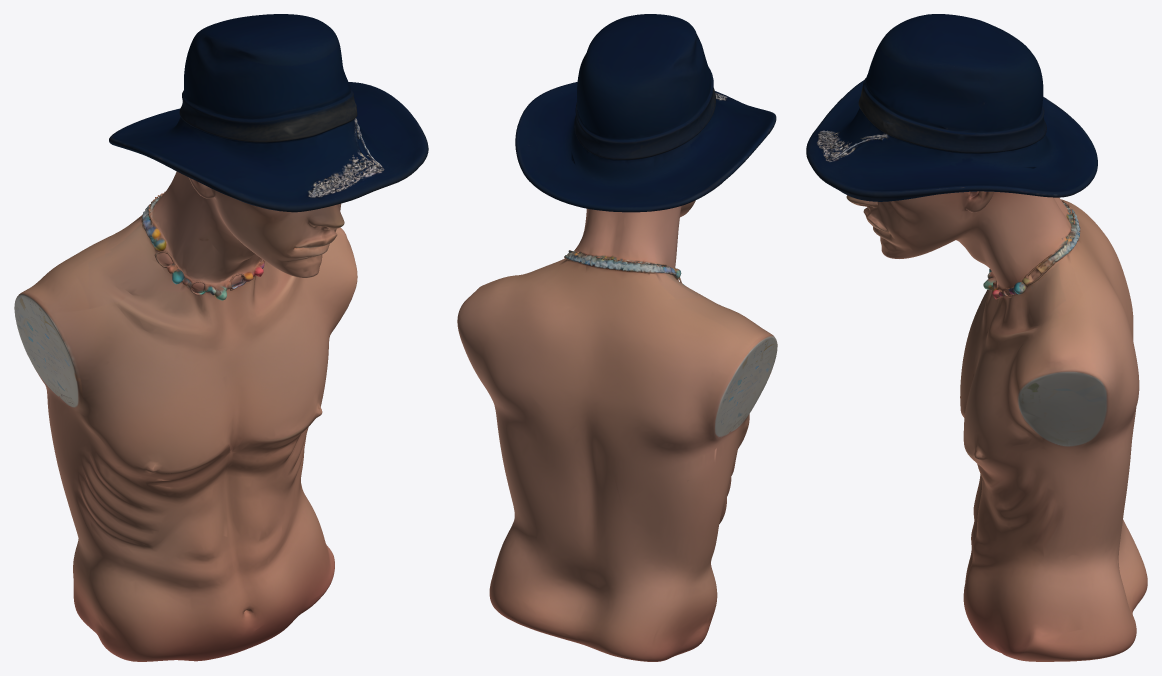
The model's file is polge_2.glb.
3 views of the same model, side by side, from view 1: azimuth 30°, elevation 25°; view 2: azimuth 150°, elevation 25°; view 3: azimuth 270°, elevation 25° (orthographic). The views are drawn at different scales.
Visible parts, largest first — view 1: material; view 2: material; view 3: material.
Part boxes in pixels (x1,y1,x2,y2): material: [14, 14, 428, 661]; material: [457, 14, 777, 661]; material: [806, 14, 1147, 661].
Size of the model in its own units: 0.5875 by 1.13 by 0.566.
1 material, 1 textured.
